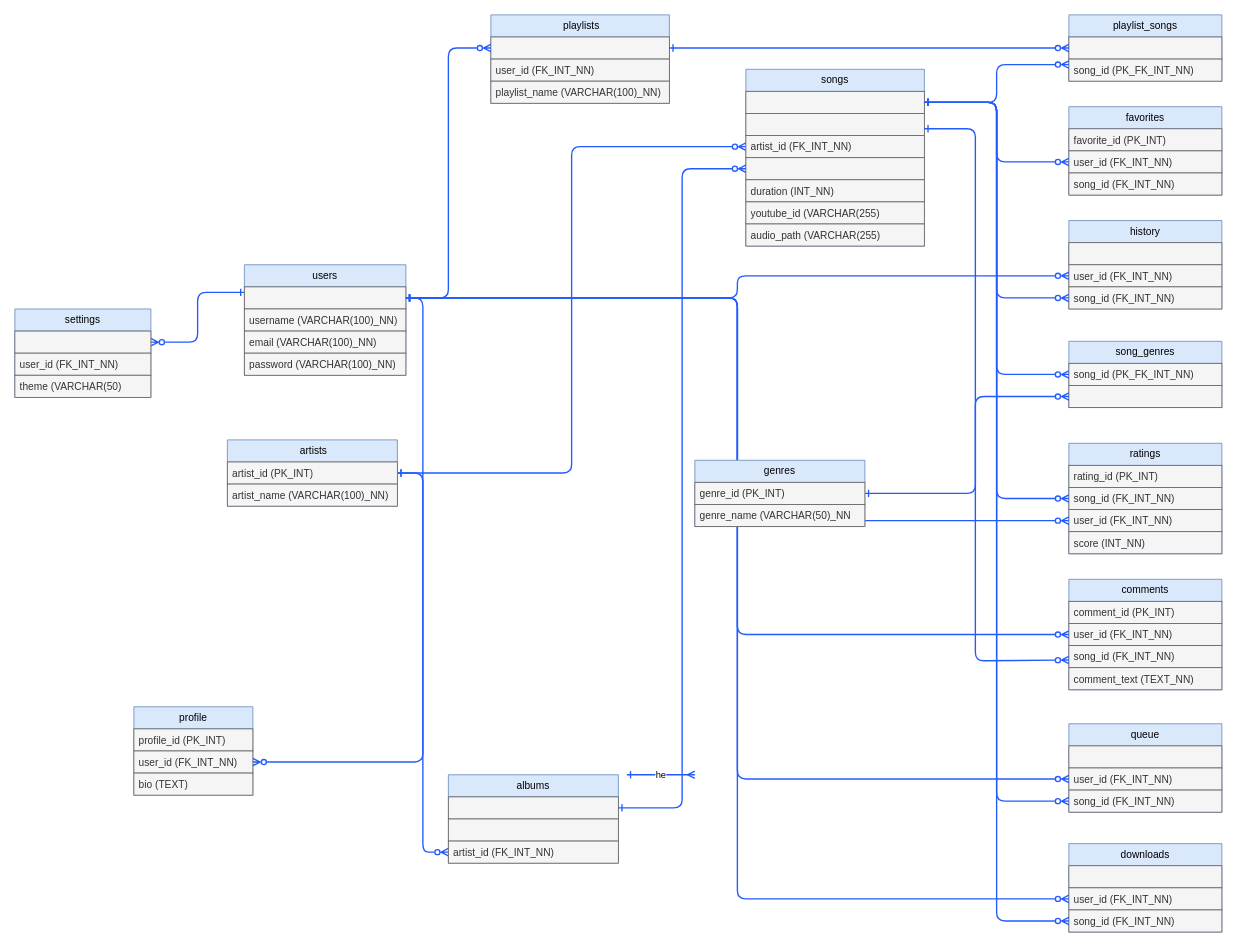
This 1237x949 diagram has some shape labels left out. The shapes that lost their labels are listed below. From the top down, each one's centre as x and y in pixels, then its label:
point 579,47: playlist_id (PK_INT)
point 1145,47: playlist_id (PK_FK_INT_NN)
point 834,102: song_id (PK_NN)
point 834,124: title (VARCHAR(100)_NN)
point 834,168: album_id (FK_INT_NN)
point 1145,253: history_id (PK_INT)
point 325,297: user_id (PK_INT)
point 82,341: setting_id (PK_INT)
point 1145,396: genre_id (PK_FK_INT_NN)
point 1145,756: queue_id (PK_INT)
point 533,807: album_id (PK_INT)
point 533,829: album_title (VARCHAR(100)_NN)
point 1145,876: download_id (PK_INT)
